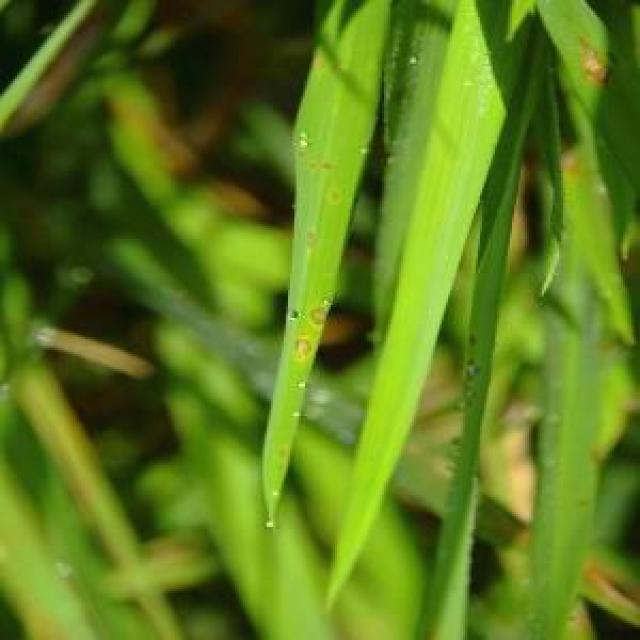Leaf_Blast: (300, 286, 346, 335)
